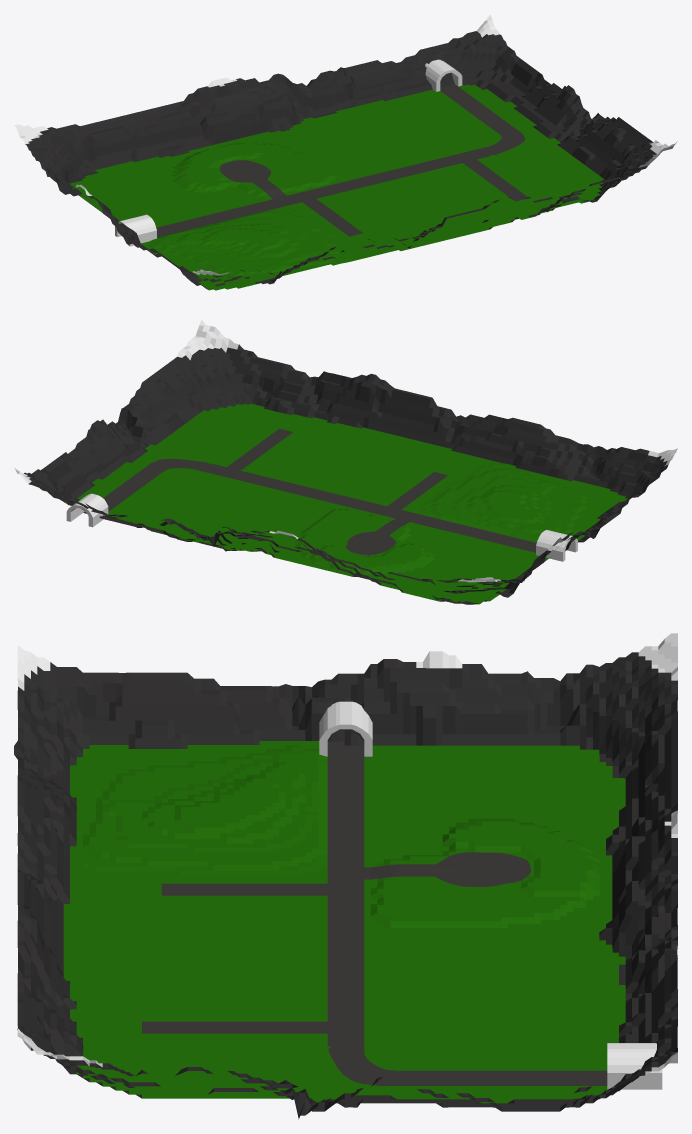
The model's file is ground.fbx.
3 renders of one model, top to bottom at view 1: azimuth 30°, elevation 25°; view 2: azimuth 150°, elevation 25°; view 3: azimuth 270°, elevation 25°, orthographic. The views are drawn at different scales.
Visible parts, largest first — view 1: Stone, Cube, Cube.001; view 2: Stone, Cube.001, Cube; view 3: Stone, Cube, Cube.001.
Boxes of the visible parts, <box> form: Stone: <box>14,15,677,290</box>; Cube: <box>425,59,462,91</box>; Cube.001: <box>115,214,156,246</box>; Stone: <box>14,319,677,604</box>; Cube.001: <box>536,530,577,561</box>; Cube: <box>66,493,108,527</box>; Stone: <box>14,633,677,1119</box>; Cube: <box>607,1043,662,1089</box>; Cube.001: <box>319,701,372,756</box>.
Bounding box in the file's own units: 23500 × 2643 × 16090.
